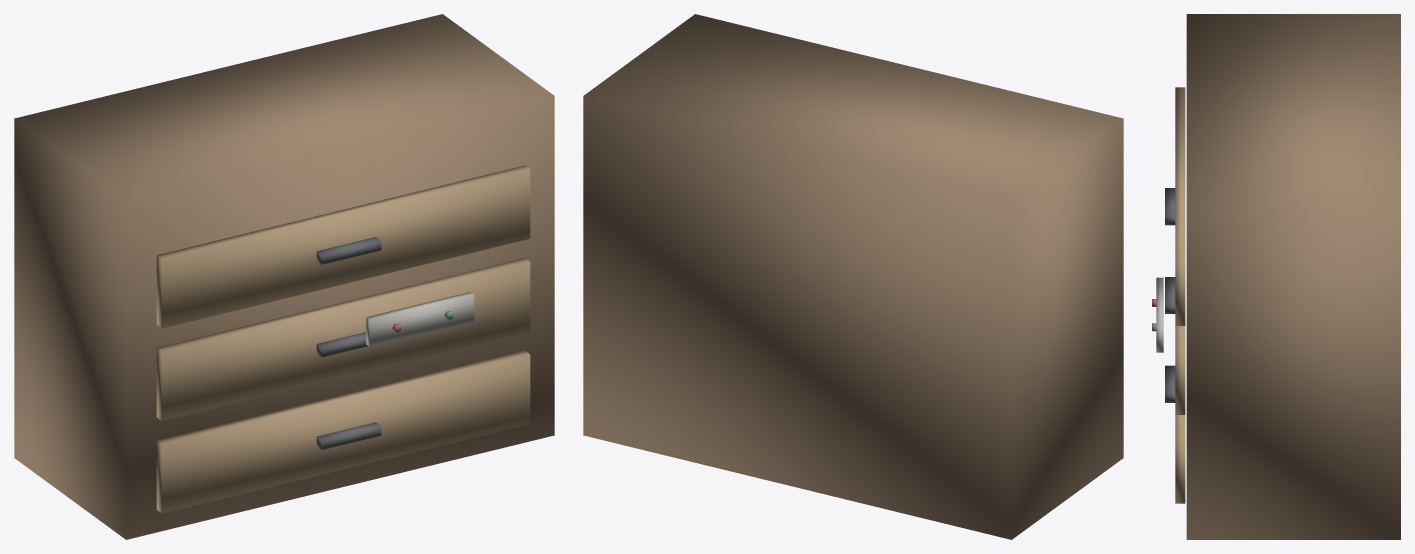
Rendered from dresser__reinforced.glb.
The picture shows the model from 3 angles, left to right: view 1: azimuth 30°, elevation 25°; view 2: azimuth 150°, elevation 25°; view 3: azimuth 270°, elevation 25°; orthographic projection. The views are drawn at different scales.
Parts seen in each view (by area): view 1: world; view 2: world; view 3: world.
Boxes of the visible parts, x1,y1,x2,y2 form: world: (14,14,554,539); world: (583,14,1123,539); world: (1152,14,1400,539).
Size of the model in its own units: 1.18 by 0.8976 by 0.6216.
